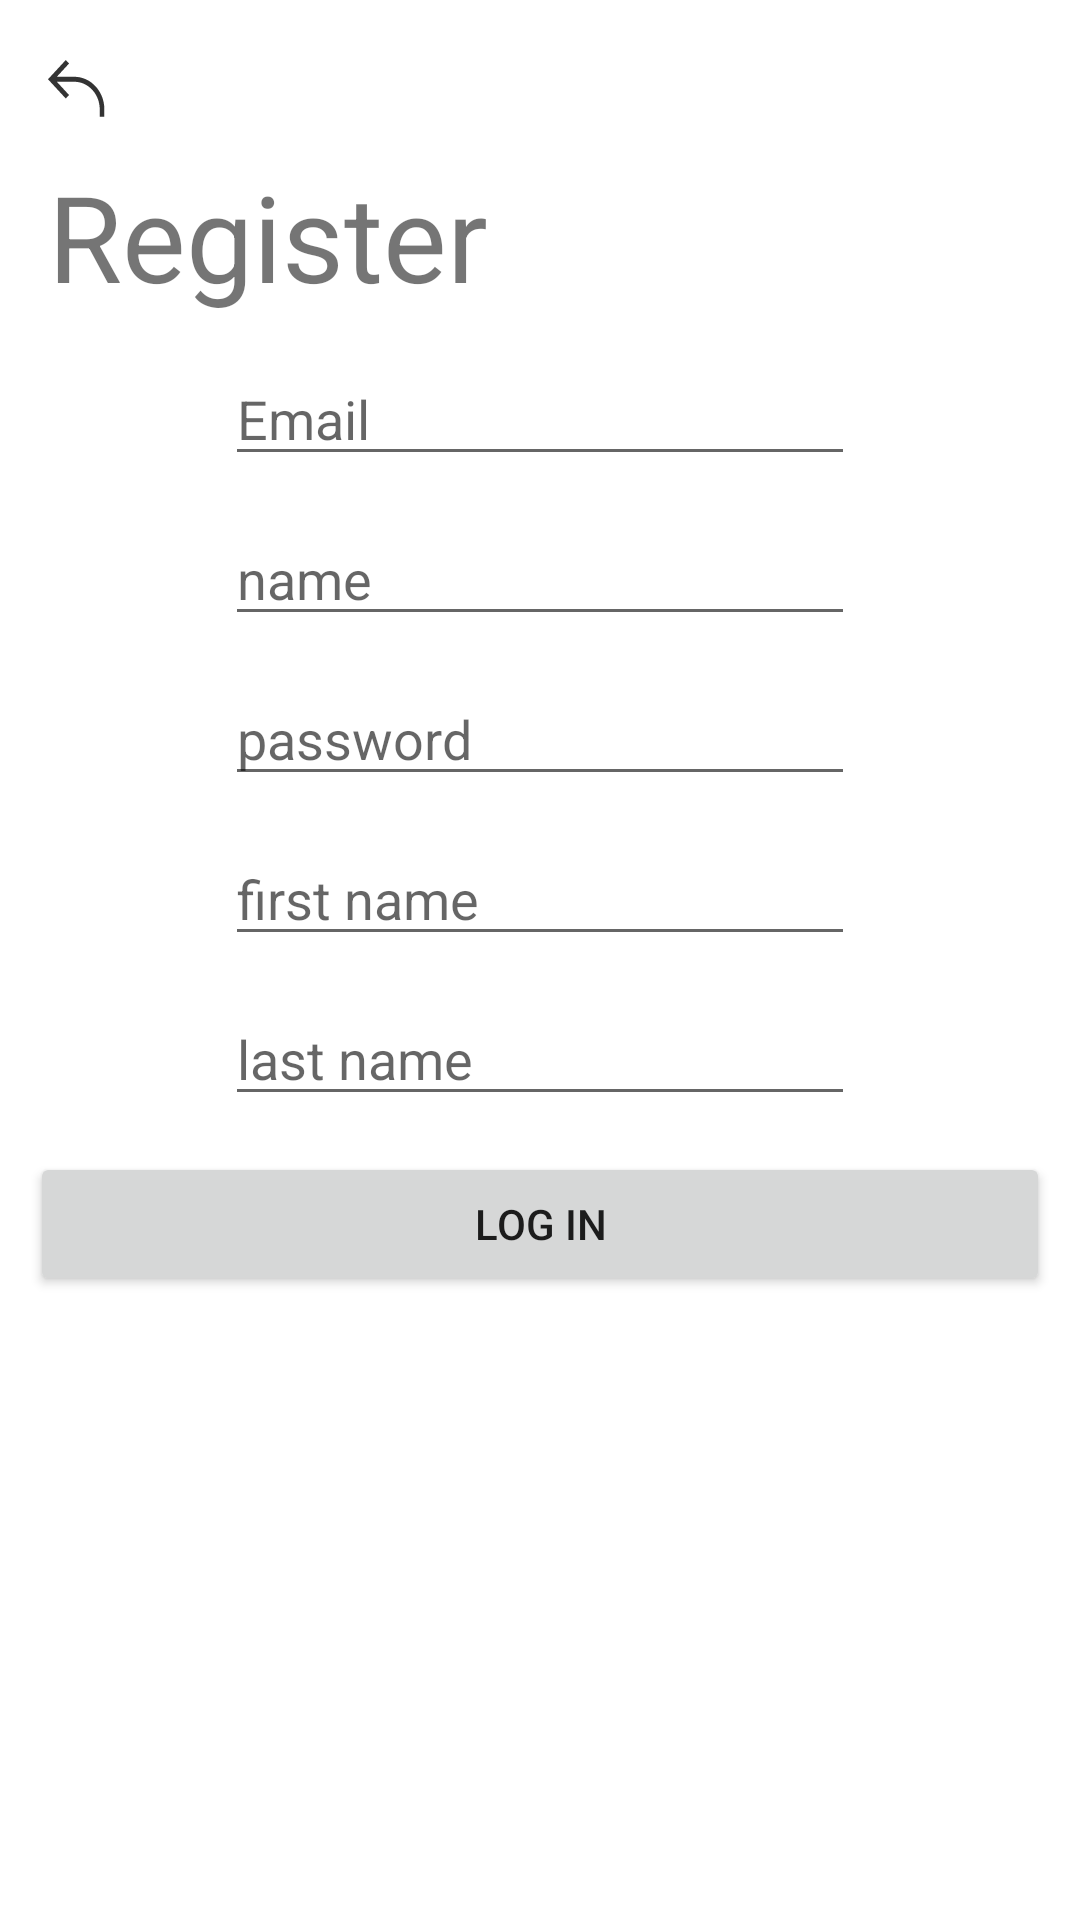

Named icons in this screenshot (1080×1920) and their bounding boxes, (x1, y1, x2, y2):
title back: (48, 60, 105, 117)
